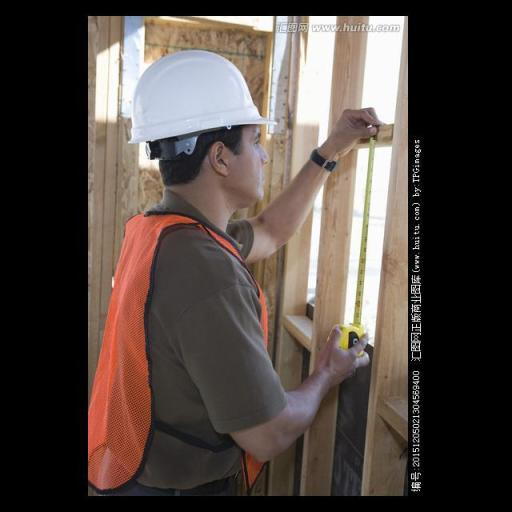Person: (62, 9, 368, 497)
helmet: (107, 48, 286, 140)
